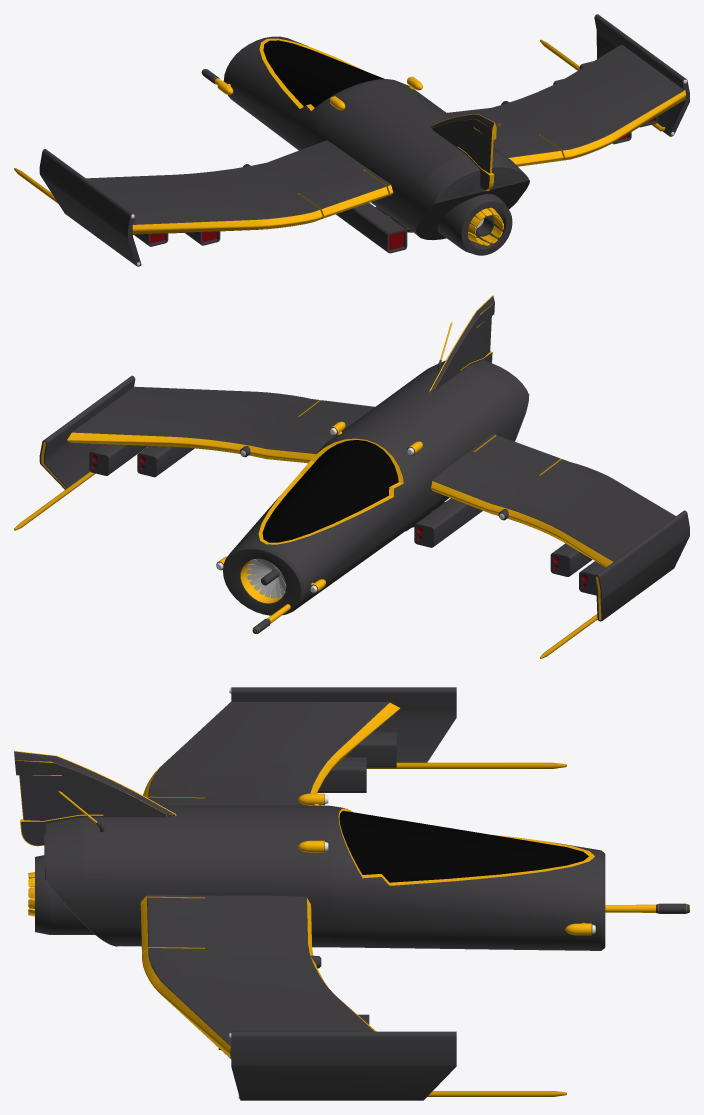
The model's file is ship.fbx.
3 renders of one model, top to bottom at view 1: azimuth 30°, elevation 25°; view 2: azimuth 150°, elevation 25°; view 3: azimuth 270°, elevation 25°, orthographic. The views are drawn at different scales.
Visible parts, largest first — view 1: Плоскость, Цилиндр.001, Цилиндр, Цилиндр.007, Куб.001, Плоскость.002, Цилиндр.005; view 2: Плоскость, Цилиндр.001, Цилиндр, Куб.001, Плоскость.002, Цилиндр.004, Цилиндр.005; view 3: Плоскость, Цилиндр.001, Цилиндр, Плоскость.002, Куб.001, Цилиндр.007, Цилиндр.005, Цилиндр.002.
Boxes of the visible parts, <box> form: Плоскость: <box>14,14,689,266</box>; Цилиндр.001: <box>223,36,529,240</box>; Цилиндр: <box>263,40,384,107</box>; Цилиндр.007: <box>437,194,512,255</box>; Куб.001: <box>134,61,657,253</box>; Плоскость.002: <box>431,114,496,191</box>; Цилиндр.005: <box>131,76,687,265</box>; Плоскость: <box>14,375,689,658</box>; Цилиндр.001: <box>223,360,529,615</box>; Цилиндр: <box>262,440,398,542</box>; Куб.001: <box>89,444,605,595</box>; Плоскость.002: <box>429,295,494,392</box>; Цилиндр.004: <box>246,558,286,598</box>; Цилиндр.005: <box>216,421,422,593</box>; Плоскость: <box>140,687,566,1100</box>; Цилиндр.001: <box>44,805,605,950</box>; Цилиндр: <box>339,811,588,882</box>; Плоскость.002: <box>14,750,176,846</box>; Куб.001: <box>218,732,396,1049</box>; Цилиндр.007: <box>28,855,94,934</box>; Цилиндр.005: <box>229,688,595,1098</box>; Цилиндр.002: <box>605,903,689,913</box>.
Bounding box in the file's own units: 1419 × 412 × 1156.
